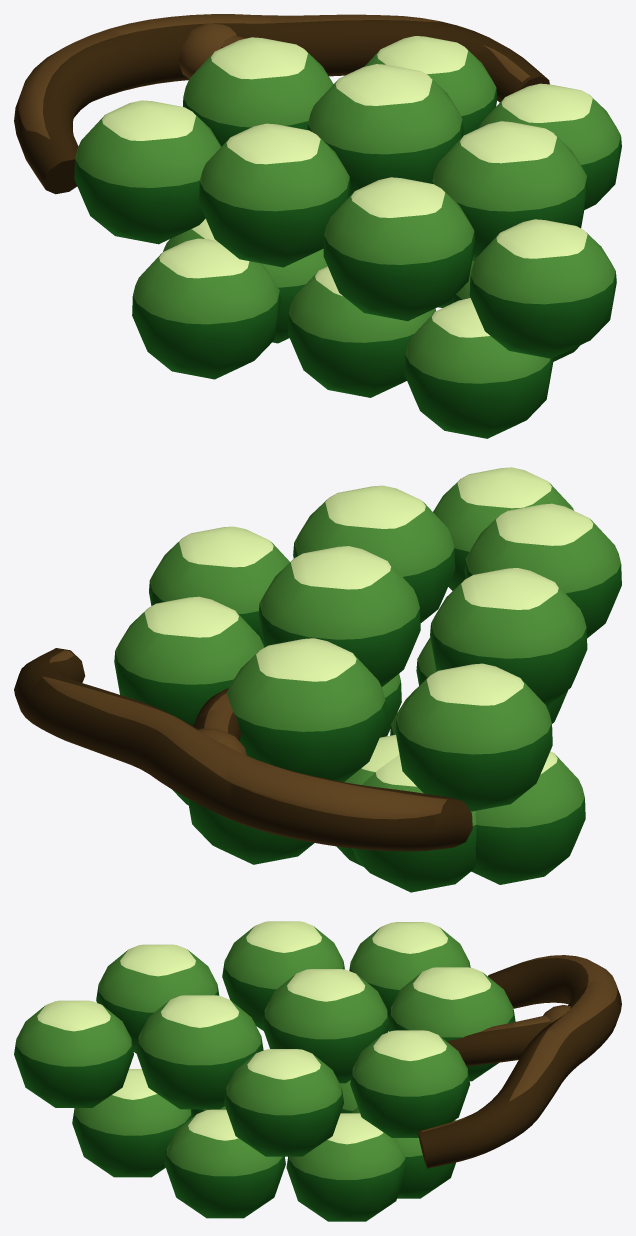
Rendered from grapes_green.glb.
3 views of the same model, one above another, from view 1: azimuth 30°, elevation 25°; view 2: azimuth 150°, elevation 25°; view 3: azimuth 270°, elevation 25° (orthographic). The views are drawn at different scales.
Visible parts, largest first — view 1: grapes_green; view 2: grapes_green; view 3: grapes_green.
Part boxes in pixels (left/top/right/bottom): grapes_green: left=14, top=14, right=621, bottom=438; grapes_green: left=14, top=467, right=621, bottom=892; grapes_green: left=14, top=921, right=621, bottom=1221.
Bounding box in the file's own units: 10.41 × 5.56 × 14.47.
